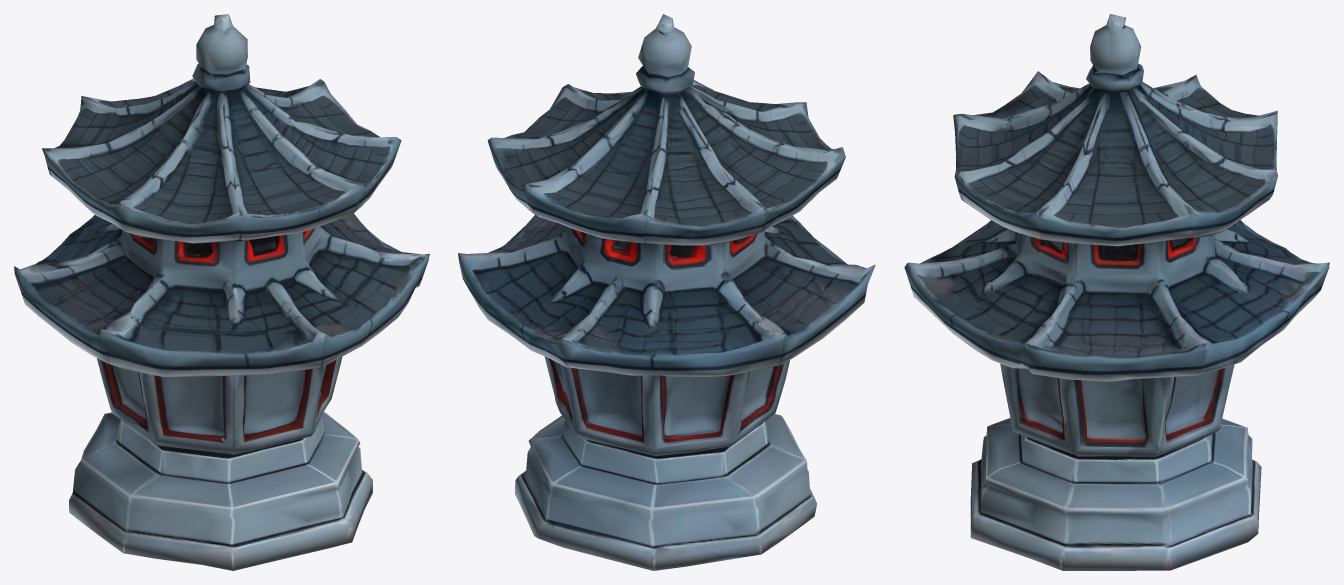
Rendered from lantern_korea.glb.
The picture shows the model from 3 angles, left to right: view 1: azimuth 30°, elevation 25°; view 2: azimuth 150°, elevation 25°; view 3: azimuth 270°, elevation 25°; orthographic projection.
Bounding box in the file's own units: 1.41 × 2 × 1.55.
Materials: 1 (1 with a texture image).
